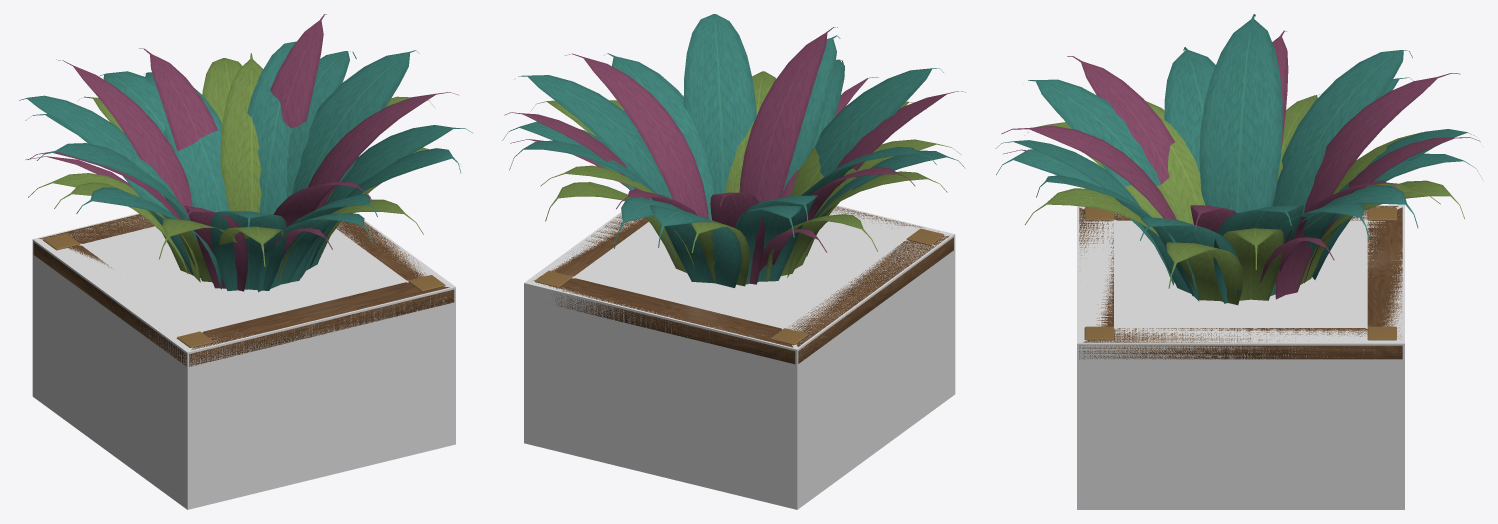
The model's file is plaza_planter.gltf.
3 renders of one model, left to right at view 1: azimuth 30°, elevation 25°; view 2: azimuth 150°, elevation 25°; view 3: azimuth 270°, elevation 25°, orthographic. The views are drawn at different scales.
Visible parts, largest first — view 1: plaza_planter_col, plaza_planter_LOD0; view 2: plaza_planter_col, plaza_planter_LOD0; view 3: plaza_planter_LOD0, plaza_planter_col.
Boxes of the visible parts, x1=… form: plaza_planter_col: x1=32, y1=213, x2=455, y2=509; plaza_planter_LOD0: x1=19, y1=14, x2=472, y2=366; plaza_planter_col: x1=524, y1=205, x2=955, y2=509; plaza_planter_LOD0: x1=502, y1=14, x2=965, y2=364; plaza_planter_LOD0: x1=995, y1=14, x2=1482, y2=359; plaza_planter_col: x1=1077, y1=205, x2=1404, y2=509.
Size of what is drawn, in the model's own units: 1.49 by 1.13 by 1.49.
Materials: 7 (6 with a texture image).
